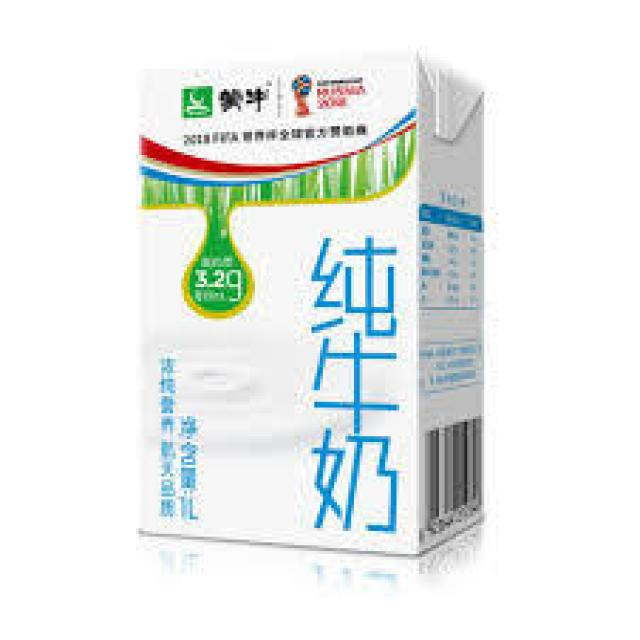-Recyclables - paper box-: (136, 47, 490, 560)
